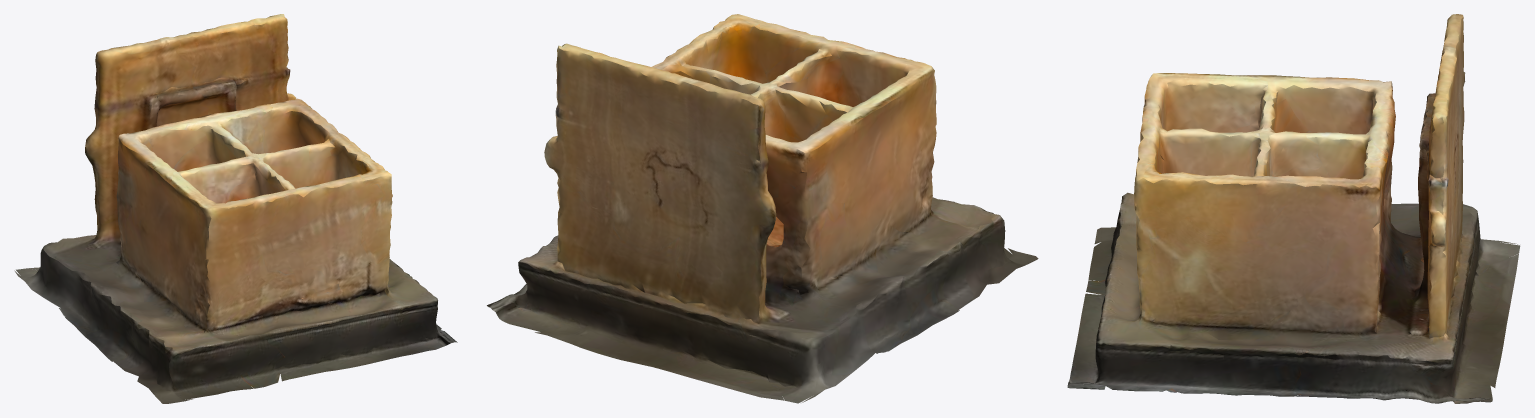
The model's file is caixa-canopica.glb.
3 views of the same model, side by side, from view 1: azimuth 30°, elevation 25°; view 2: azimuth 150°, elevation 25°; view 3: azimuth 270°, elevation 25° (orthographic). The views are drawn at different scales.
Visible parts, largest first — view 1: Object_4; view 2: Object_4; view 3: Object_4.
Boxes of the visible parts, bbox=[...] form: Object_4: bbox=[14, 14, 457, 403]; Object_4: bbox=[487, 14, 1038, 403]; Object_4: bbox=[1067, 14, 1520, 403].
Bounding box in the file's own units: 0.7385 × 0.533 × 0.7948.
1 material, 1 textured.
